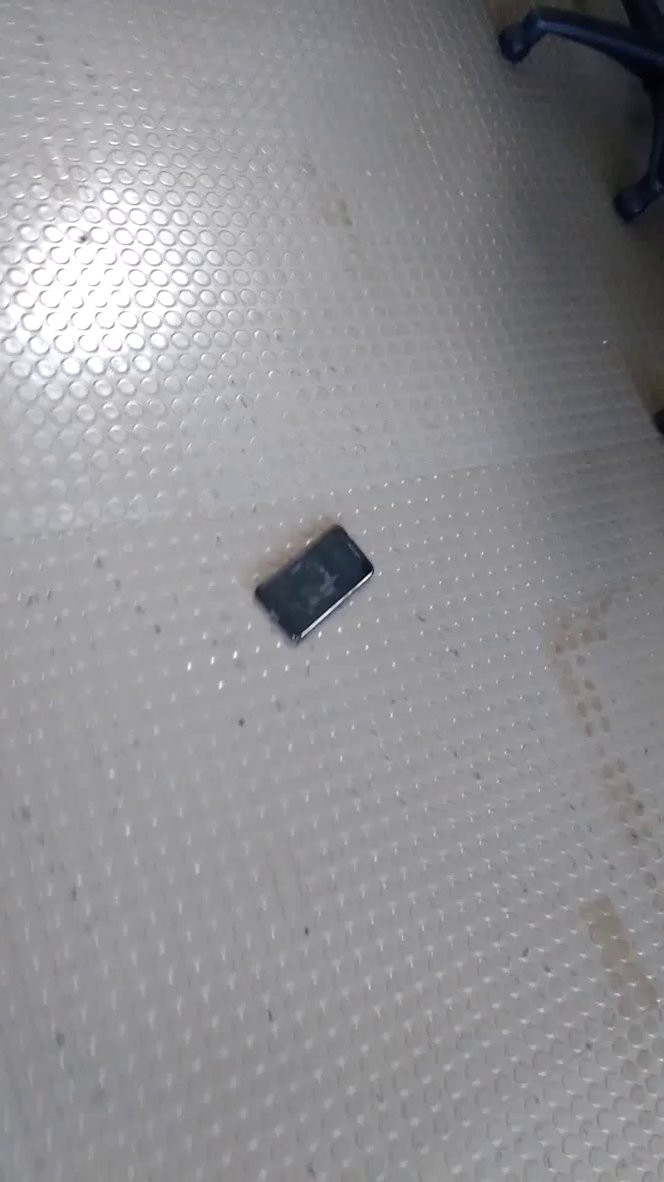phone: (251, 505, 386, 655)
